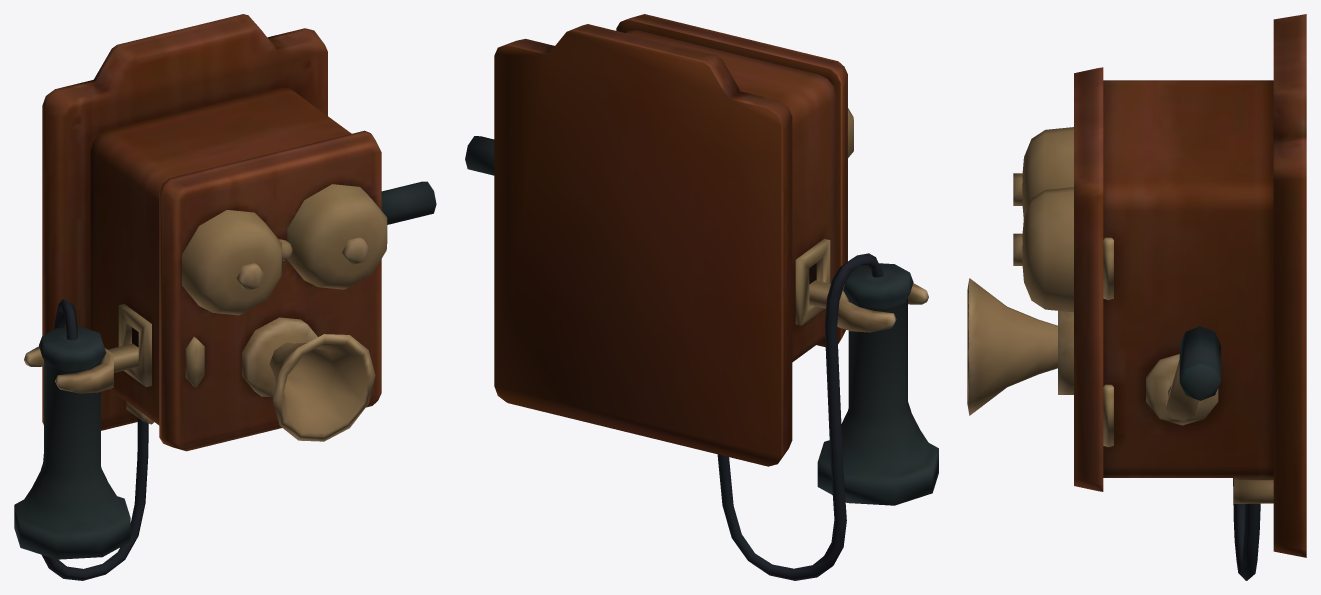
3 views of the same model, side by side, from view 1: azimuth 30°, elevation 25°; view 2: azimuth 150°, elevation 25°; view 3: azimuth 270°, elevation 25° (orthographic). The views are drawn at different scales.
Size of the model in its own units: 8.42 by 9.53 by 4.99.
Materials: 1 (1 with a texture image).
